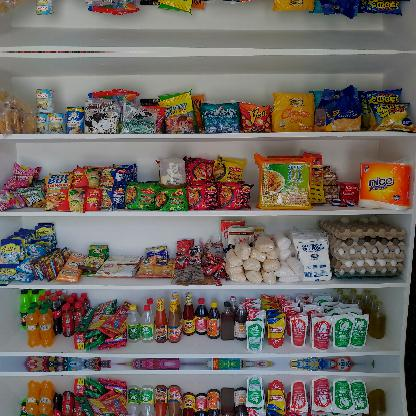Lady-s-Choice: (159, 158, 187, 188)
